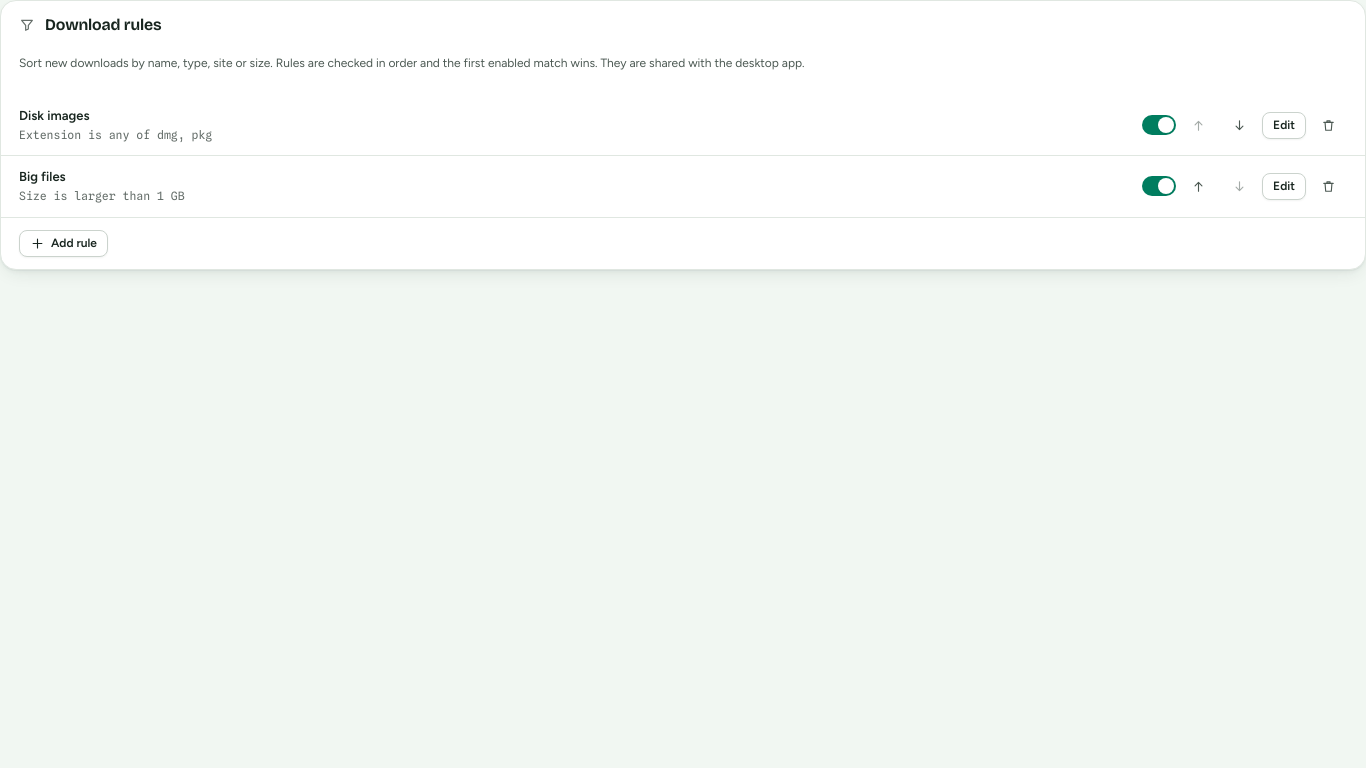
Test: RulesCard › adds a rule through the editor, validating first
Click the button "Add rule". click: [64, 243]
box: [19,230,108,257]
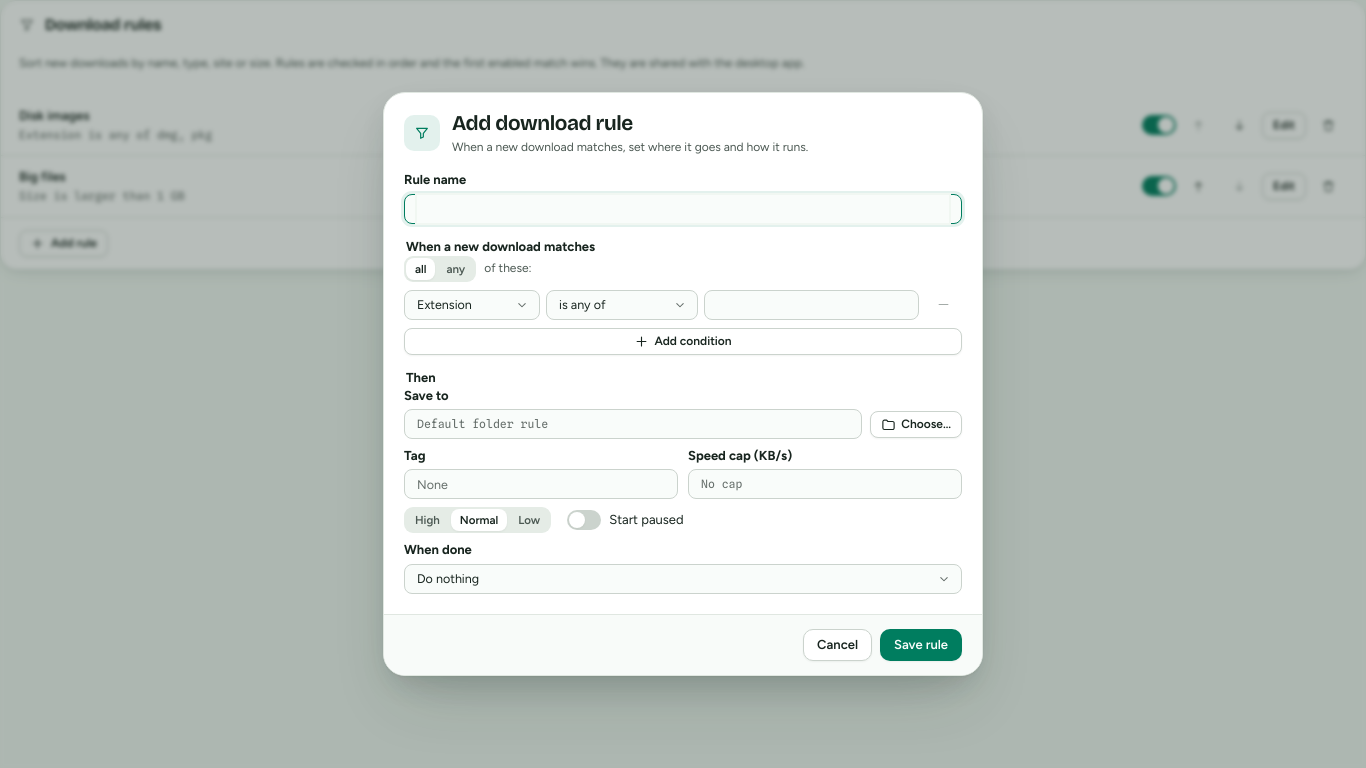
Click the button "Save rule". click: [921, 644]
box: [880,628,962,660]
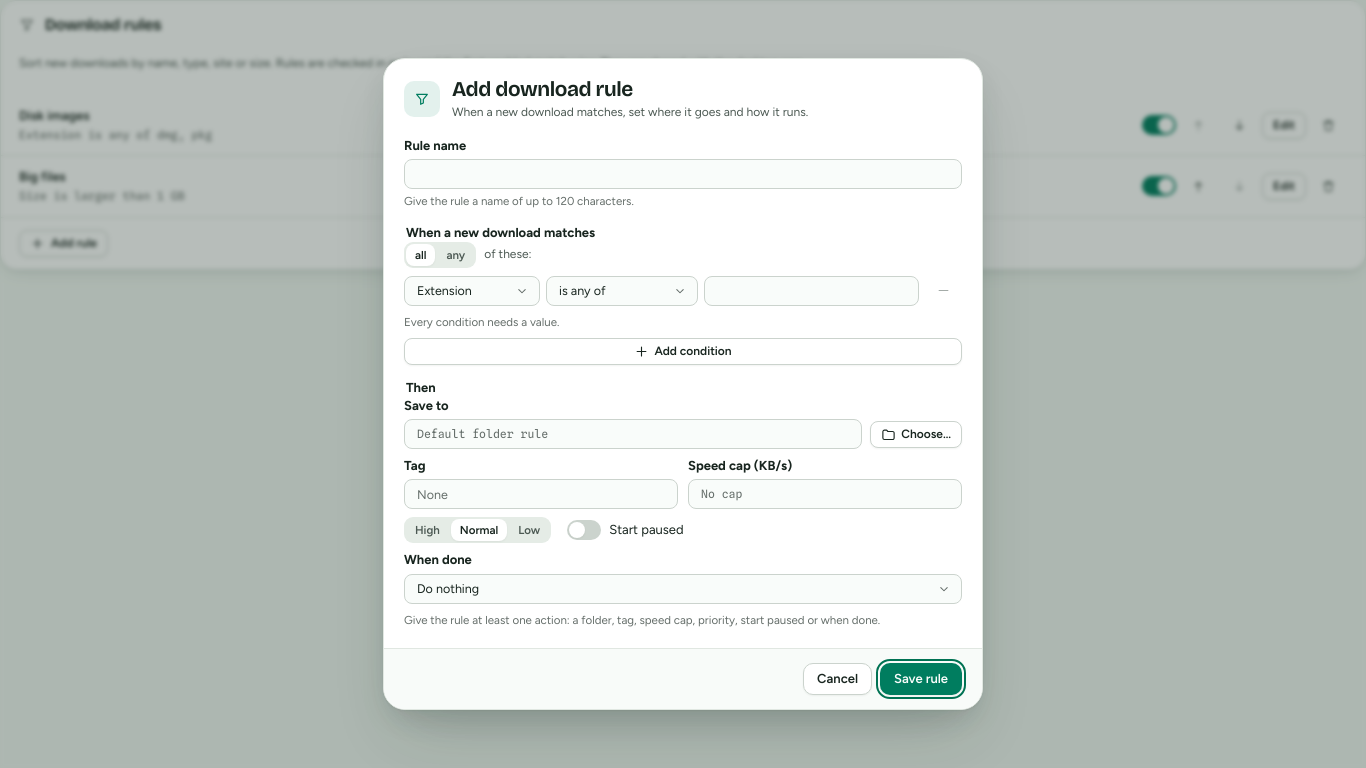
Expected: the message "Give the rule a name of up to 120 characters." is shown, [404,194,634,208]
Type "PDFs" into the field labelled "Rule name". click: [683, 174]
box: [417,160,949,188]
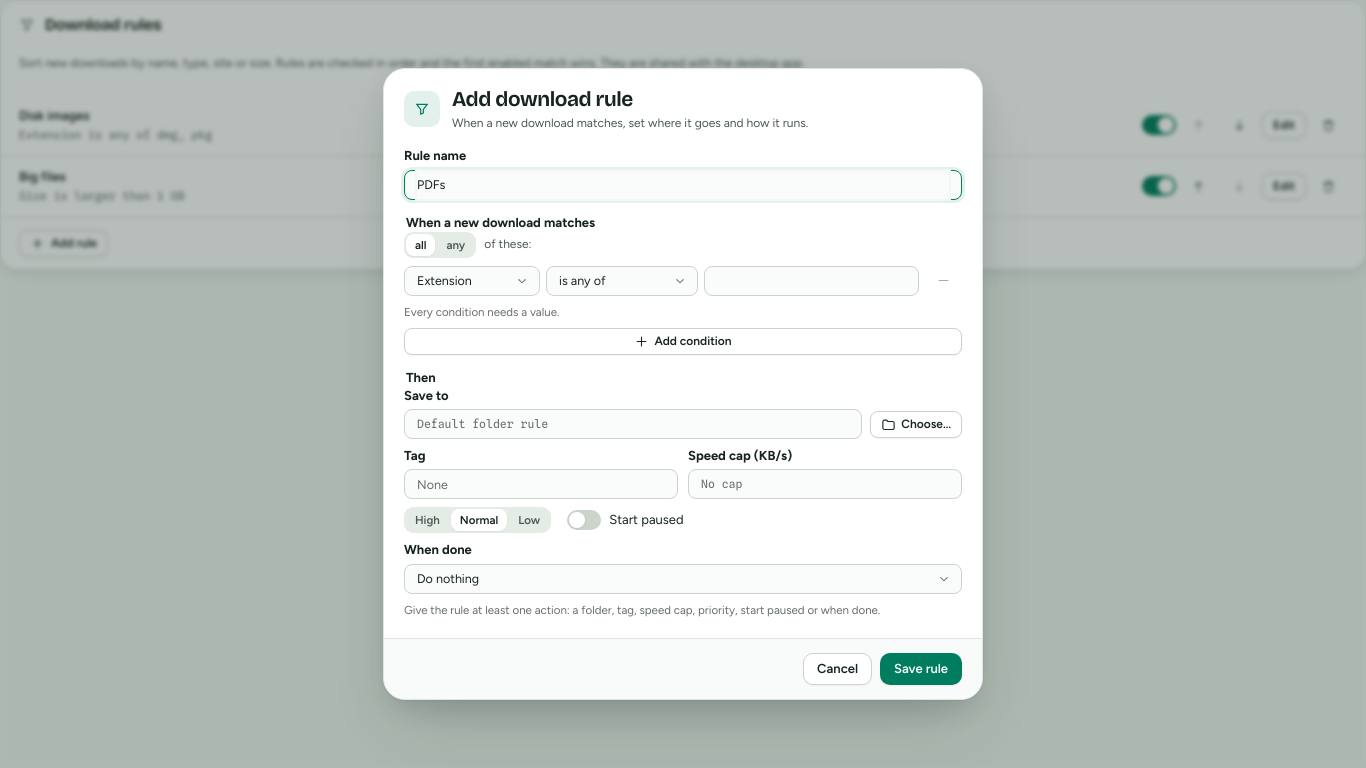
Type "pdf" into the field named "Value of condition 1". click: [812, 281]
box: [717,267,906,295]
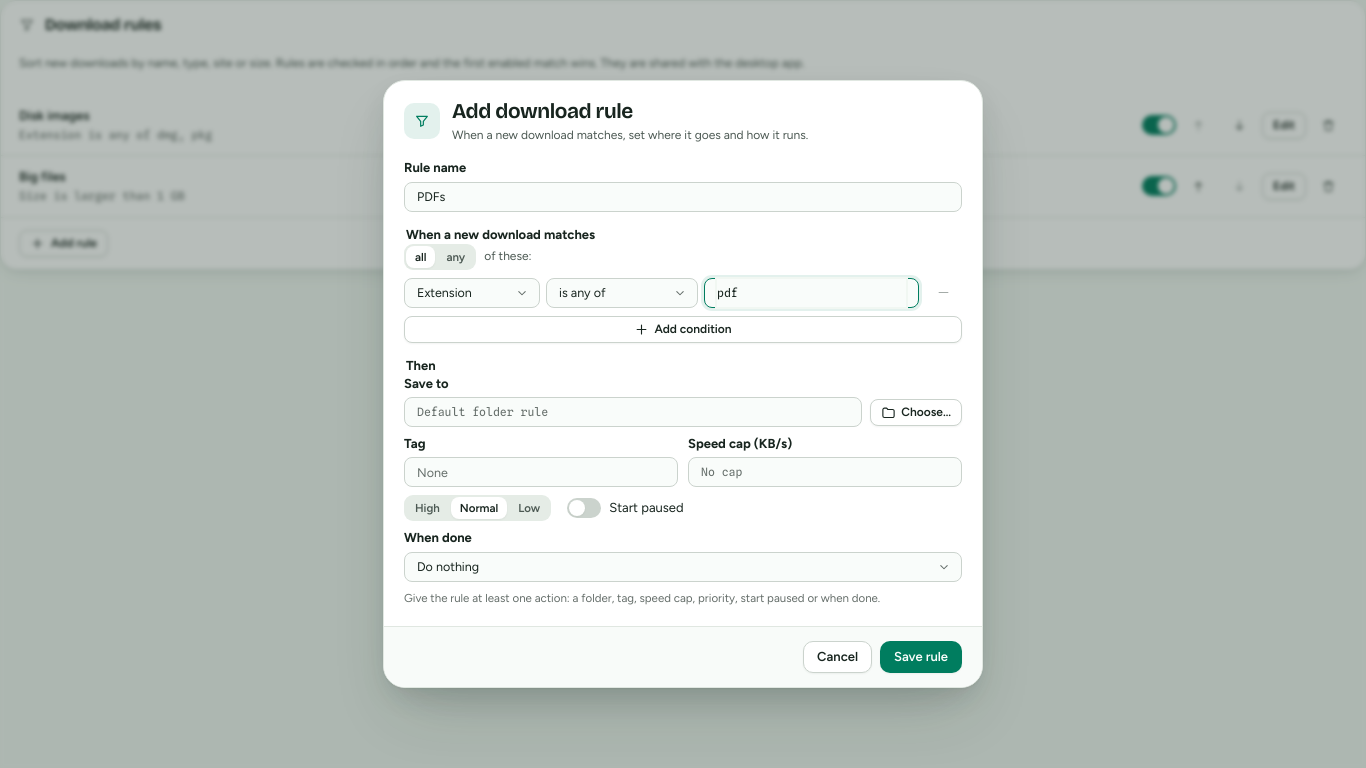
Type "docs" into the field labelled "Tag". click: [541, 472]
box: [417,458,665,486]
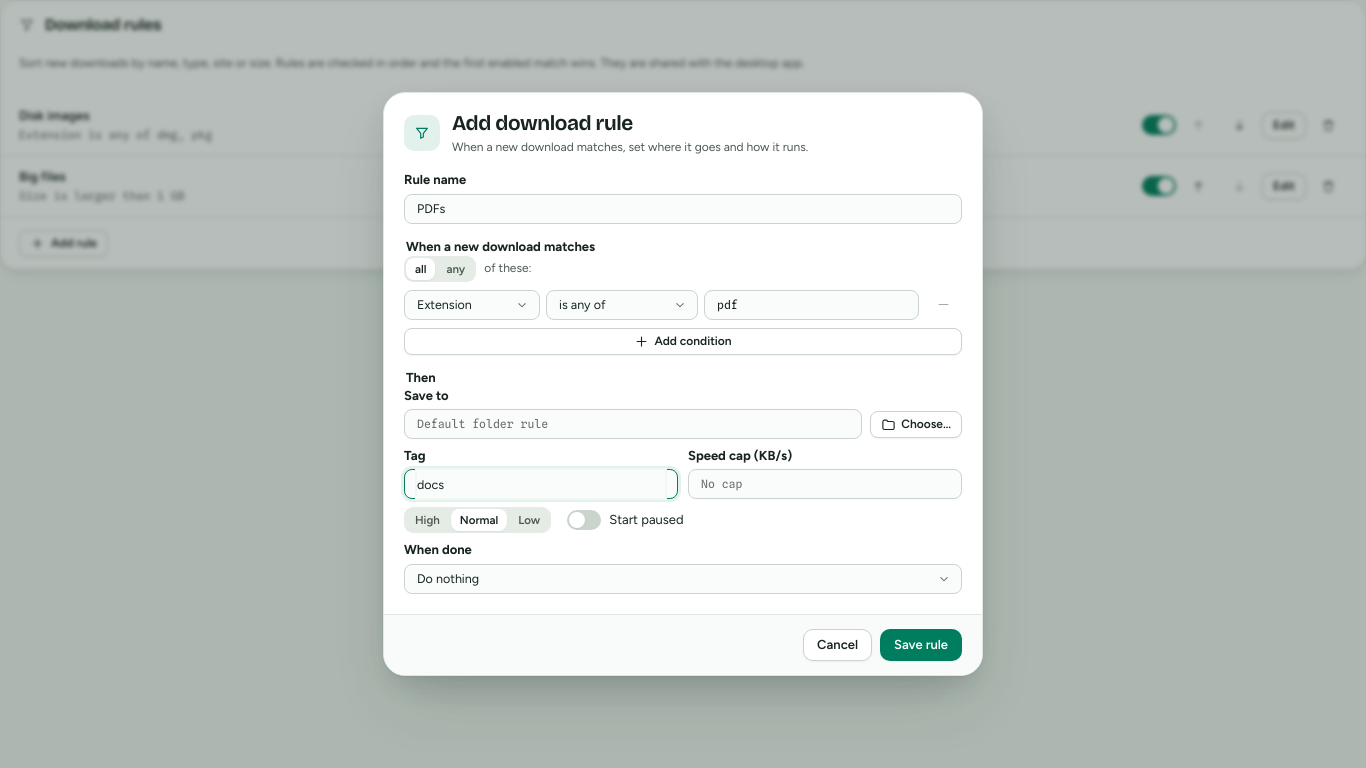
Click the button "Save rule". click: [921, 644]
box: [880,628,962,660]
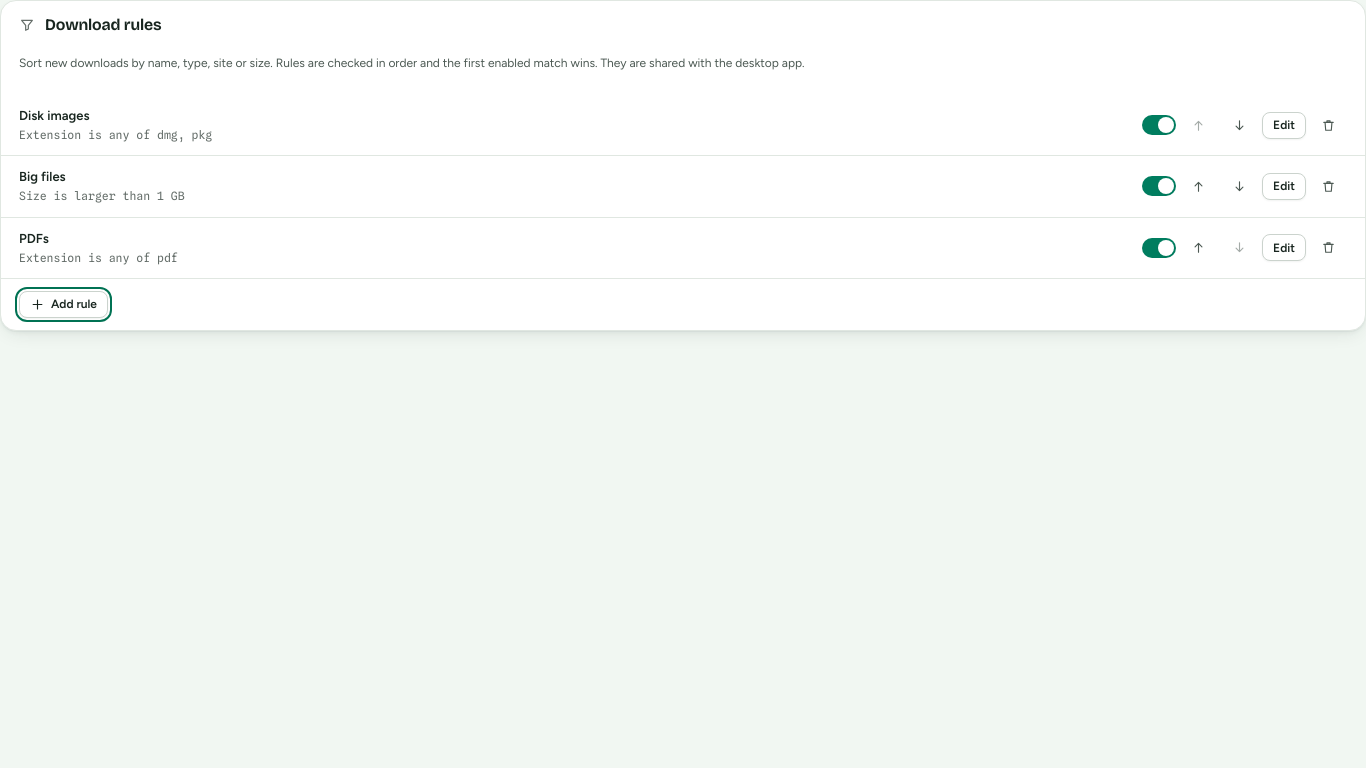
Expected: the dialog is gone
